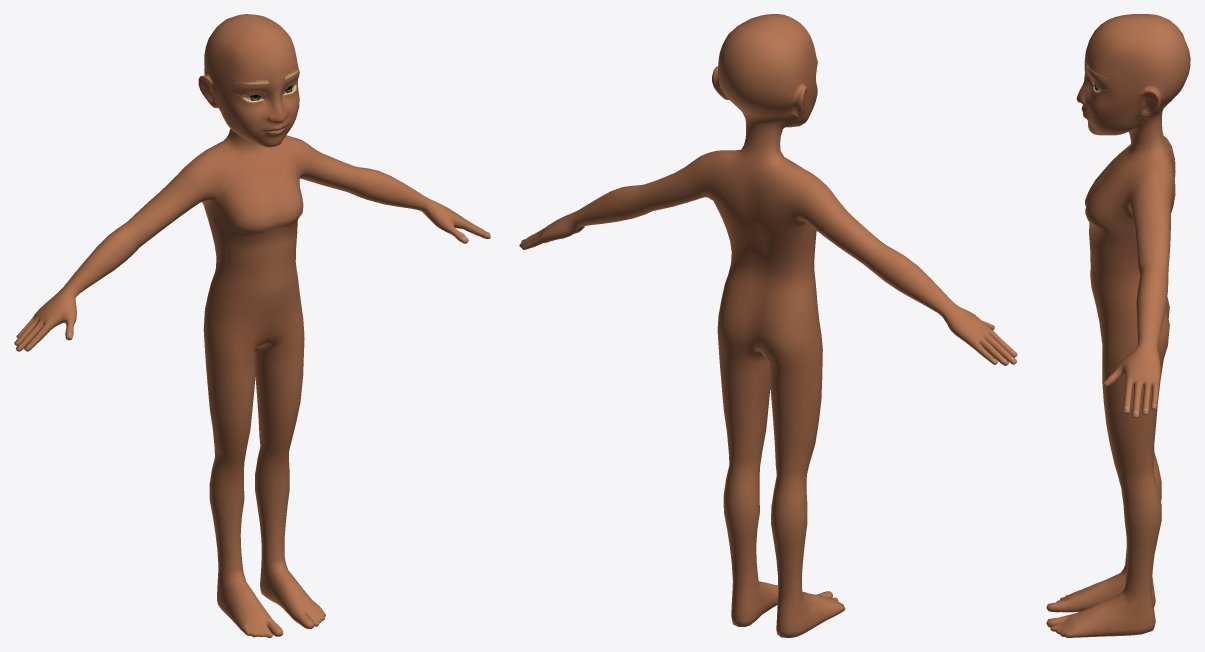
Rendered from frame_0079.glb.
The picture shows the model from 3 angles, left to right: view 1: azimuth 30°, elevation 25°; view 2: azimuth 150°, elevation 25°; view 3: azimuth 270°, elevation 25°; orthographic projection. The views are drawn at different scales.
Parts seen in each view (by area): view 1: frame_0079_head_geo; view 2: frame_0079_head_geo; view 3: frame_0079_head_geo.
Part boxes in pixels (bbox=[...]): frame_0079_head_geo: bbox=[14, 14, 490, 637]; frame_0079_head_geo: bbox=[519, 14, 1017, 637]; frame_0079_head_geo: bbox=[1046, 14, 1190, 637].
Bounding box in the file's own units: 1.28 × 1.5 × 0.3253.
Materials: 3 (3 with a texture image).
